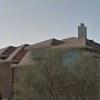Chimney: (73, 17, 88, 47)
